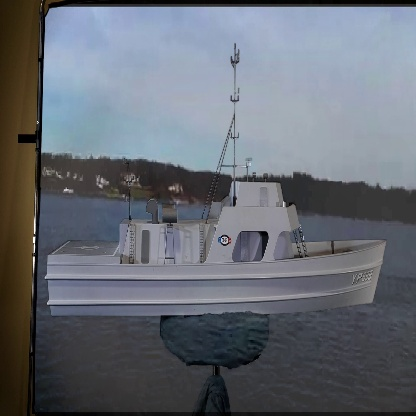YP689: (44, 43, 387, 320)
